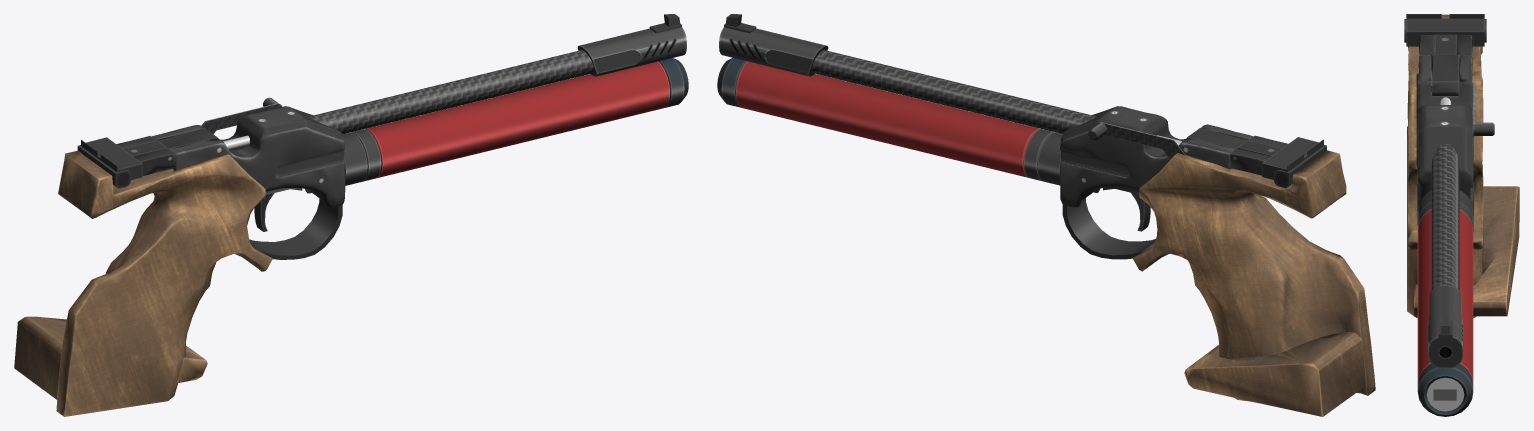
Rendered from MoriniCM200Ei_Left.fbx.
3 views of the same model, side by side, from view 1: azimuth 30°, elevation 25°; view 2: azimuth 150°, elevation 25°; view 3: azimuth 270°, elevation 25° (orthographic). The views are drawn at different scales.
Visible parts, largest first — view 1: MoriniCM200Ei_body, MoriniCM200Ei_BackSight_Parent, MoriniCM200Ei_BackSight_Child1, MoriniCM200Ei_reloadPT1; view 2: MoriniCM200Ei_body, MoriniCM200Ei_BackSight_Parent, MoriniCM200Ei_BackSight_Child1, MoriniCM200Ei_reloadPT1; view 3: MoriniCM200Ei_body, MoriniCM200Ei_BackSight_Parent, MoriniCM200Ei_BackSight_Child1, MoriniCM200Ei_reloadPT1, MoriniCM200Ei_BackSight_Child2.
Part boxes in pixels (x1,y1,x2,y2): MoriniCM200Ei_body: [14, 14, 688, 416]; MoriniCM200Ei_BackSight_Parent: [116, 128, 217, 175]; MoriniCM200Ei_BackSight_Child1: [77, 137, 142, 188]; MoriniCM200Ei_reloadPT1: [201, 97, 282, 134]; MoriniCM200Ei_body: [717, 14, 1375, 416]; MoriniCM200Ei_BackSight_Parent: [1187, 128, 1287, 175]; MoriniCM200Ei_BackSight_Child1: [1262, 137, 1326, 188]; MoriniCM200Ei_reloadPT1: [1088, 122, 1185, 159]; MoriniCM200Ei_body: [1407, 14, 1519, 416]; MoriniCM200Ei_BackSight_Parent: [1418, 34, 1472, 95]; MoriniCM200Ei_BackSight_Child1: [1404, 14, 1486, 46]; MoriniCM200Ei_reloadPT1: [1473, 85, 1494, 136]; MoriniCM200Ei_BackSight_Child2: [1449, 14, 1484, 18].
Bounding box in the file's own units: 40.61 × 15.32 × 5.88.
Materials: 1 (1 with a texture image).
